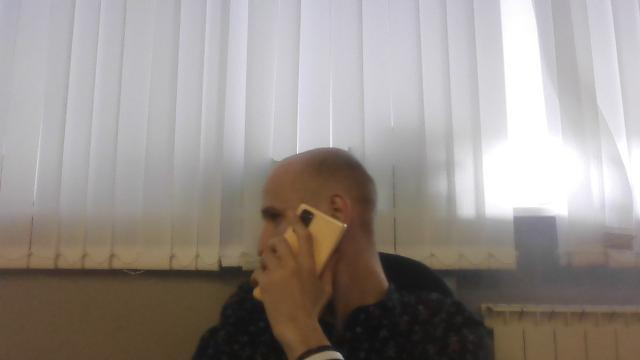PhoneUse: (250, 200, 350, 304)
